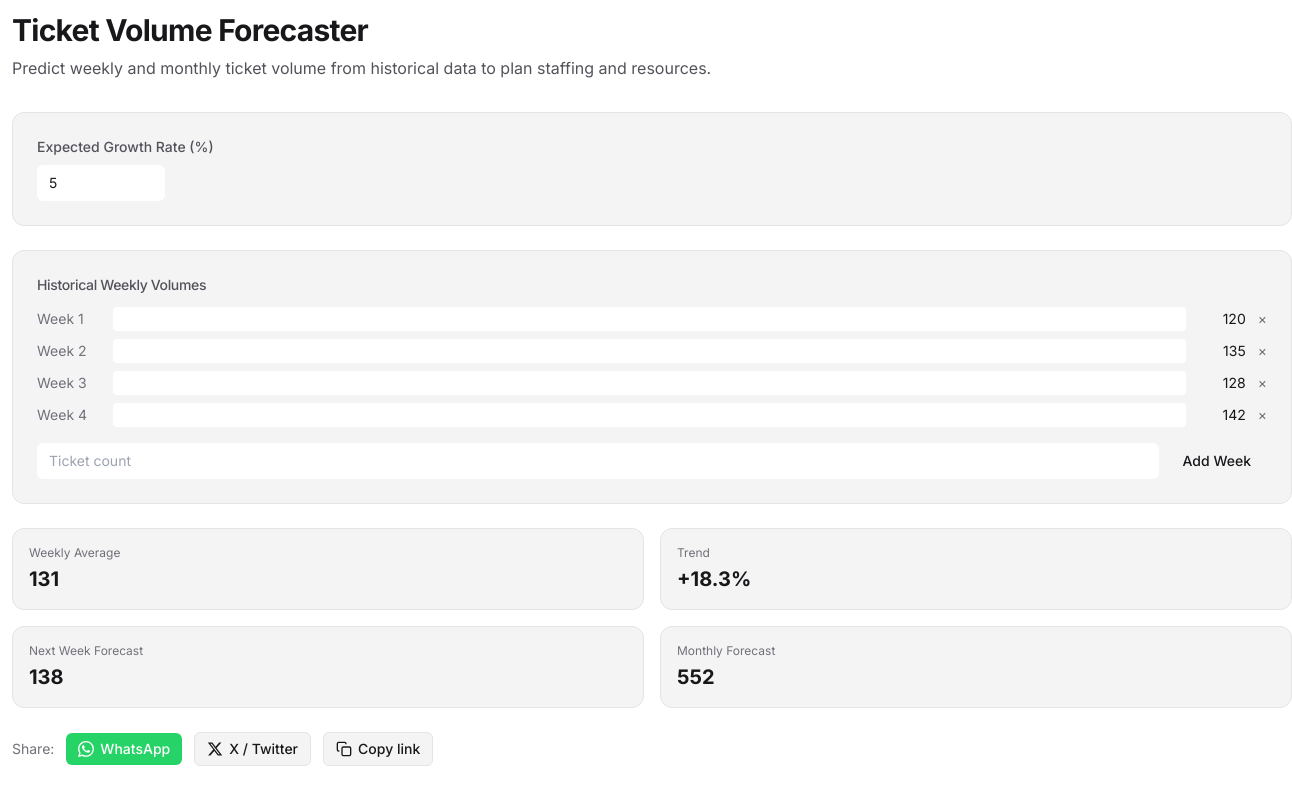
it: TicketVolumeForecaster › adds a new week entry
In the number field with placeholder "Ticket count": x=598, y=461 left=37, top=443, right=1158, bottom=479, type "200"
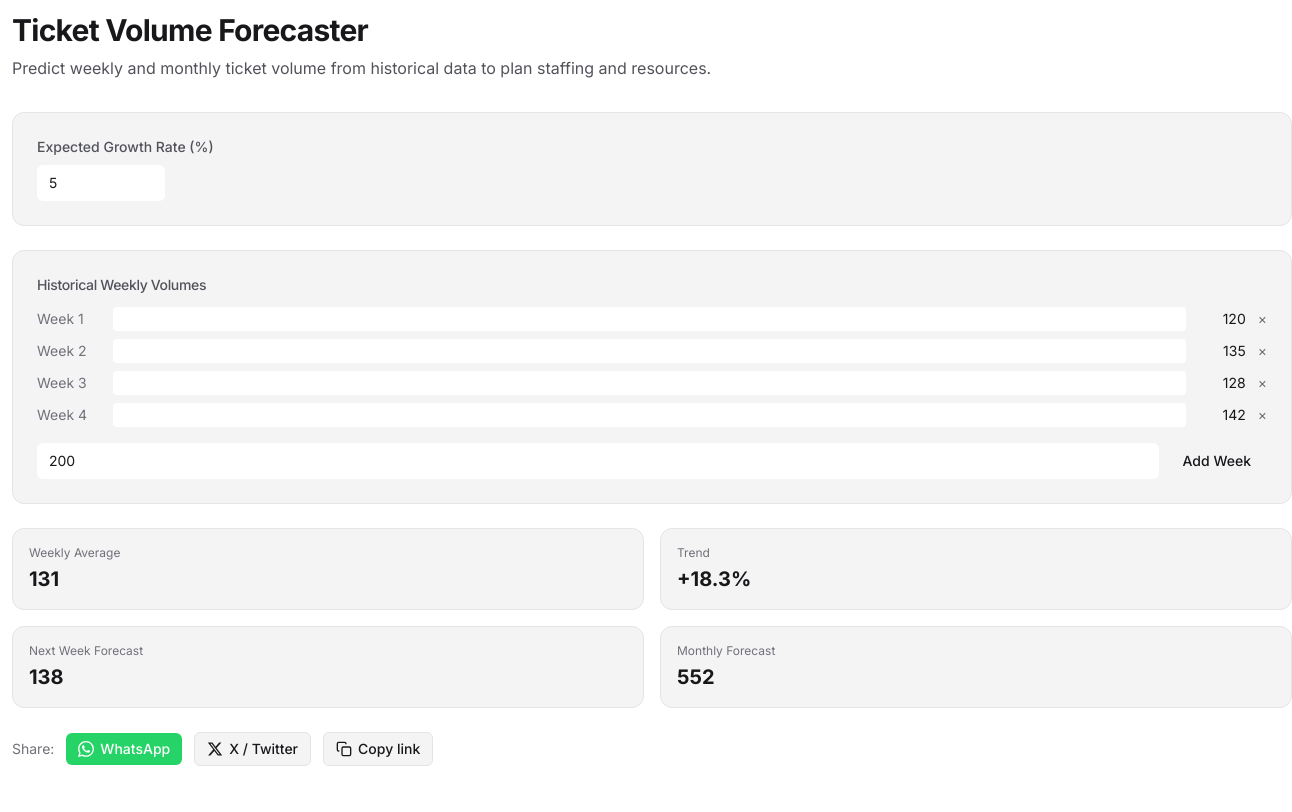
Click the button "Add Week": x=1217, y=461 left=1166, top=443, right=1267, bottom=479
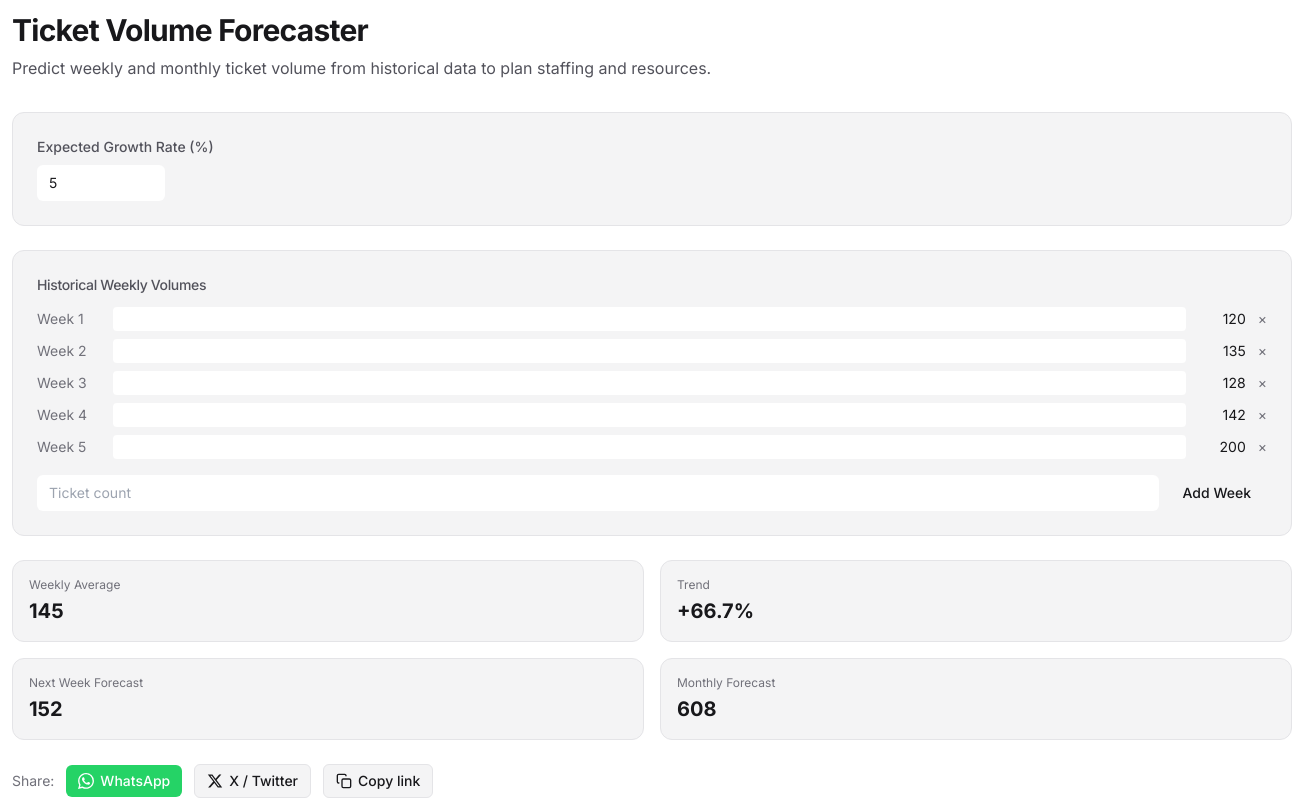
Check: the text "Week 5" is shown, box left=37, top=438, right=86, bottom=455
